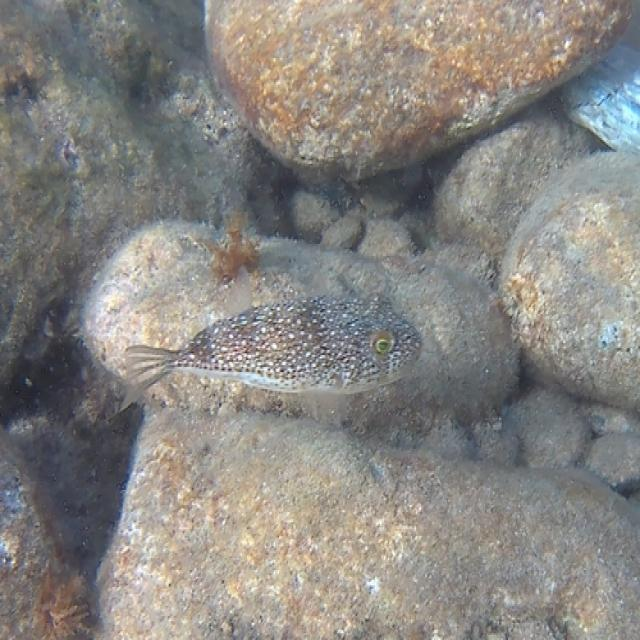Balik: (123, 296, 421, 407)
